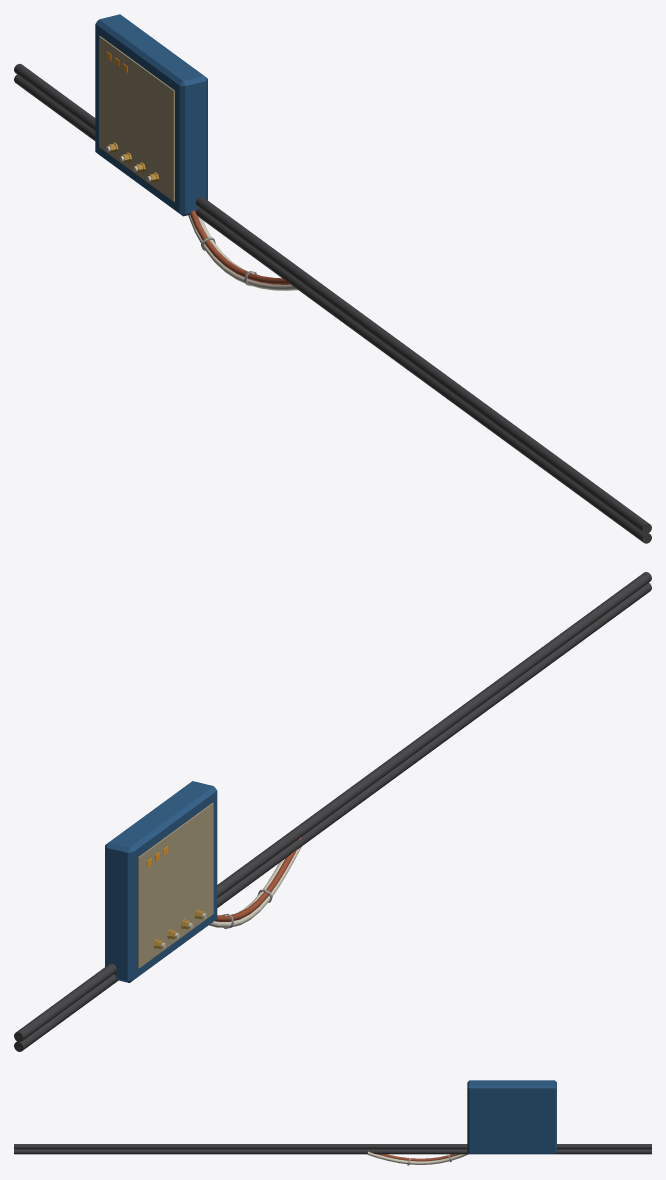
Rendered from pax100_power.obj.
The picture shows the model from 3 angles, top to bottom: view 1: azimuth 30°, elevation 25°; view 2: azimuth 150°, elevation 25°; view 3: azimuth 270°, elevation 25°; orthographic projection. The views are drawn at different scales.
Visible parts, largest first — view 1: pax100_power; view 2: pax100_power; view 3: pax100_power.
Part boxes in pixels (x1,y1,x2,y2): pax100_power: (14, 14, 651, 543); pax100_power: (14, 572, 651, 1051); pax100_power: (14, 1080, 651, 1165).
Size of the model in its own units: 0.324 by 1.33 by 9.26.
